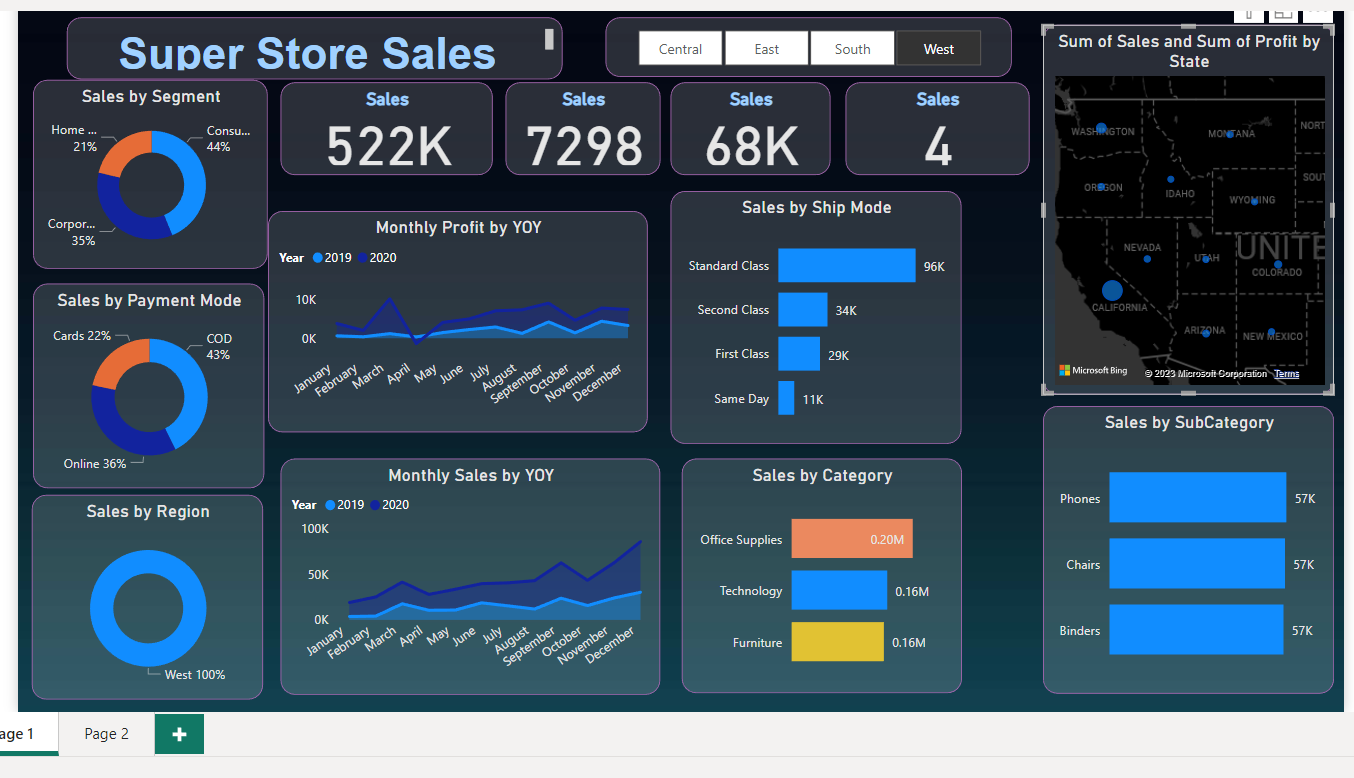

The dashboard page shown, as its layout file describes it:
{"tool":"powerbi","page":{"name":"Page 1","canvas":[1280,720],"ordinal":0},"visuals":[{"type":"clusteredBarChart","title":" Sales by Category","fields":{"Category":["SuperStore_Sales_Dataset.Category"],"Y":["Sum(SuperStore_Sales_Dataset.Sales)"]},"box":[640.4,475.2,270.2,226.7],"z":0},{"type":"clusteredBarChart","title":" Sales by SubCategory","fields":{"Category":["SuperStore_Sales_Dataset.Sub-Category"],"Y":["Sum(SuperStore_Sales_Dataset.Sales)"]},"box":[988.9,424.5,281,277.4],"z":1000},{"type":"clusteredBarChart","title":" Sales by Ship Mode","fields":{"Category":["SuperStore_Sales_Dataset.Ship Mode"],"Y":["Sum(SuperStore_Sales_Dataset.Sales)"]},"box":[629.5,217.1,281,243.6],"z":2000},{"type":"stackedAreaChart","title":"Monthly Sales by YOY","fields":{"Category":["SuperStore_Sales_Dataset.Order Date.Variation.Date Hierarchy.Month","SuperStore_Sales_Dataset.Order Date.Variation.Date Hierarchy.Day"],"Y":["Sum(SuperStore_Sales_Dataset.Sales)"],"Series":["SuperStore_Sales_Dataset.Order Date.Variation.Date Hierarchy.Year"]},"box":[253.3,475.2,366.6,227.9],"z":3000},{"type":"stackedAreaChart","title":"Monthly Profit by YOY","fields":{"Category":["SuperStore_Sales_Dataset.Order Date.Variation.Date Hierarchy.Month","SuperStore_Sales_Dataset.Order Date.Variation.Date Hierarchy.Day"],"Series":["SuperStore_Sales_Dataset.Order Date.Variation.Date Hierarchy.Year"],"Y":["Sum(SuperStore_Sales_Dataset.Profit)"]},"box":[241.2,236.4,366.6,213.5],"z":4000},{"type":"map","fields":{"Size":["Sum(SuperStore_Sales_Dataset.Sales)"],"Category":["SuperStore_Sales_Dataset.State"]},"box":[988.9,56.7,281,357],"z":5000},{"type":"donutChart","title":"Sales by Segment","fields":{"Y":["Sum(SuperStore_Sales_Dataset.Sales)"],"Category":["SuperStore_Sales_Dataset.Segment"]},"box":[14.5,109.7,226.7,182.1],"z":6000},{"type":"donutChart","title":"Sales by Payment Mode","fields":{"Y":["Sum(SuperStore_Sales_Dataset.Sales)"],"Category":["SuperStore_Sales_Dataset.Payment Mode"]},"box":[14.5,306.3,223.1,197.8],"z":7000},{"type":"slicer","fields":{"Values":["SuperStore_Sales_Dataset.Region"]},"box":[566.8,49.4,392,57.9],"z":8000},{"type":"textbox","box":[47,49.4,478.8,60.3],"z":9000},{"type":"card","title":"Sales","fields":{"Values":["Sum(SuperStore_Sales_Dataset.Sales)"]},"box":[253.3,112.2,205,89.2],"z":10000},{"type":"card","title":"Sales","fields":{"Values":["Sum(SuperStore_Sales_Dataset.Quantity)"]},"box":[470.4,112.2,149.5,89.2],"z":11000},{"type":"card","title":"Sales","fields":{"Values":["Sum(SuperStore_Sales_Dataset.Profit)"]},"box":[629.5,112.2,154.4,89.2],"z":12000},{"type":"card","title":"Sales","fields":{"Values":["Avg(SuperStore_Sales_Dataset.AverageDelivery)"]},"box":[798.4,112.2,177.3,89.2],"z":13000},{"type":"donutChart","title":" Sales by Region","fields":{"Y":["Sum(SuperStore_Sales_Dataset.Sales)"],"Category":["SuperStore_Sales_Dataset.Region"]},"box":[13.3,510.2,223.1,197.8],"z":14000}]}

Visuals, with their boxes on the page's 1280x720 design canvas (x1, y1, x2, y2). These are canvas units, not pixel positions in the 1354x778 screenshot, which may show the page scaled, cropped or inside an application window:
" Sales by Category" clusteredBarChart: BBox(640, 475, 911, 702)
" Sales by SubCategory" clusteredBarChart: BBox(989, 424, 1270, 702)
" Sales by Ship Mode" clusteredBarChart: BBox(630, 217, 910, 461)
"Monthly Sales by YOY" stackedAreaChart: BBox(253, 475, 620, 703)
"Monthly Profit by YOY" stackedAreaChart: BBox(241, 236, 608, 450)
map - Sum(SuperStore_Sales_Dataset.Sales) x SuperStore_Sales_Dataset.State: BBox(989, 57, 1270, 414)
"Sales by Segment" donutChart: BBox(14, 110, 241, 292)
"Sales by Payment Mode" donutChart: BBox(14, 306, 238, 504)
slicer - SuperStore_Sales_Dataset.Region: BBox(567, 49, 959, 107)
textbox: BBox(47, 49, 526, 110)
"Sales" card: BBox(253, 112, 458, 201)
"Sales" card: BBox(470, 112, 620, 201)
"Sales" card: BBox(630, 112, 784, 201)
"Sales" card: BBox(798, 112, 976, 201)
" Sales by Region" donutChart: BBox(13, 510, 236, 708)
